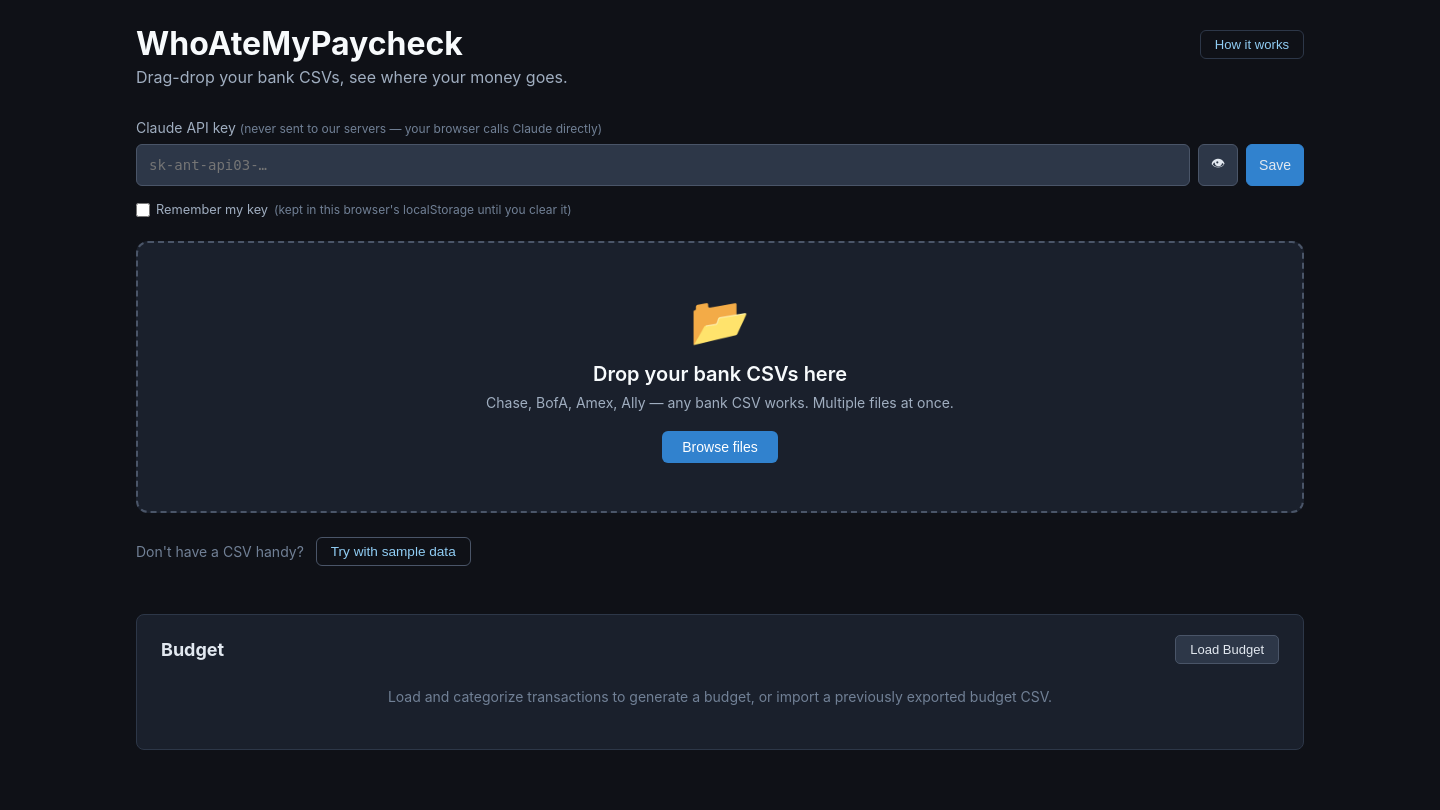
Test: App — demo mode › shows an error and leaves the empty state intact when the fetch fails
Click the button "Try with sample data" at (393, 552), box [316,537,471,566]
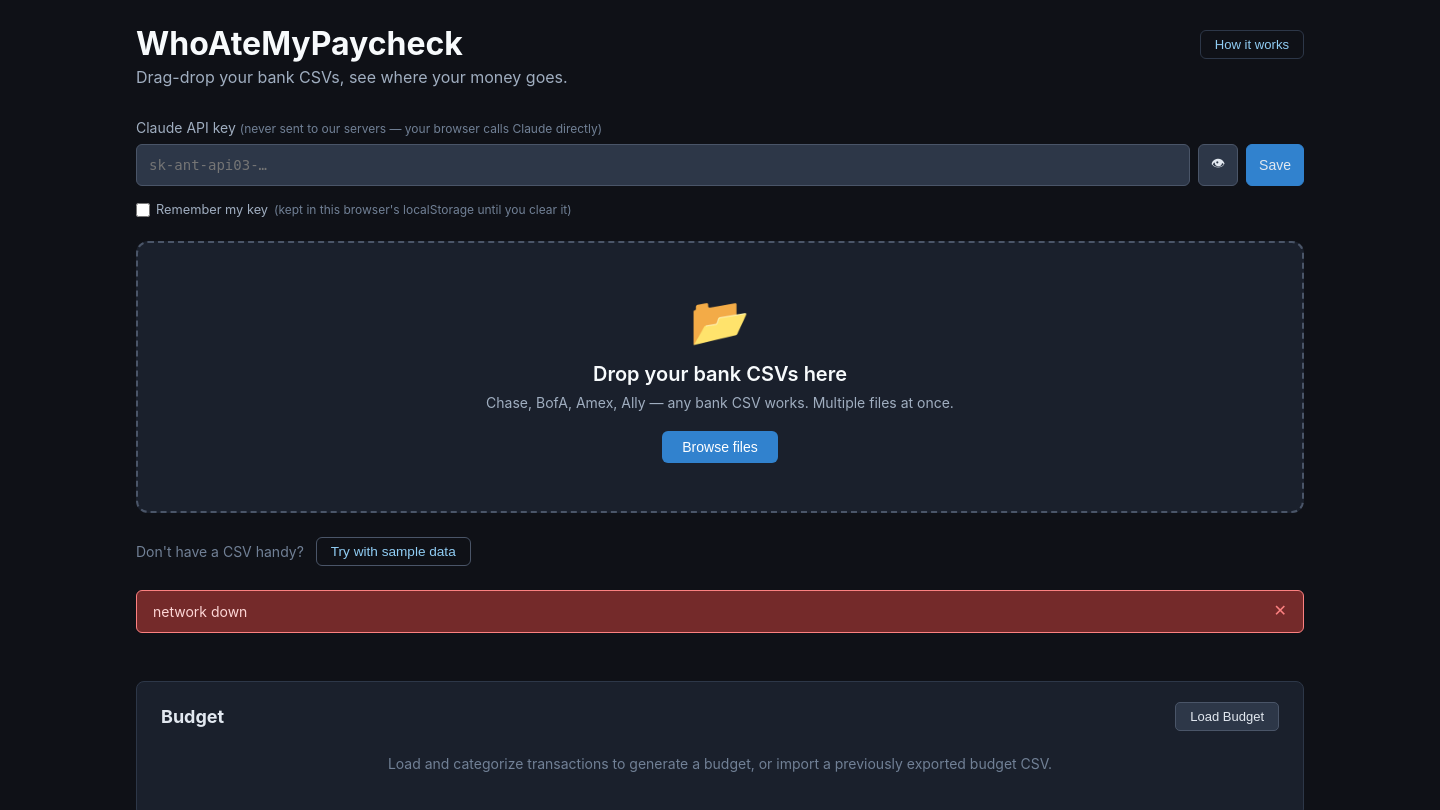
Result: the text "network down" is shown at [153,603,247,620]
